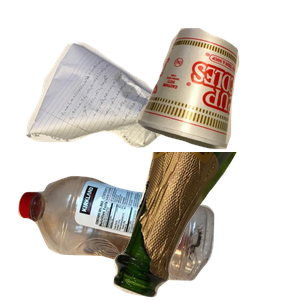glass: (111, 152, 300, 300)
paper: (23, 40, 223, 180)
plastic: (15, 173, 222, 300)
trash: (133, 25, 300, 167)
